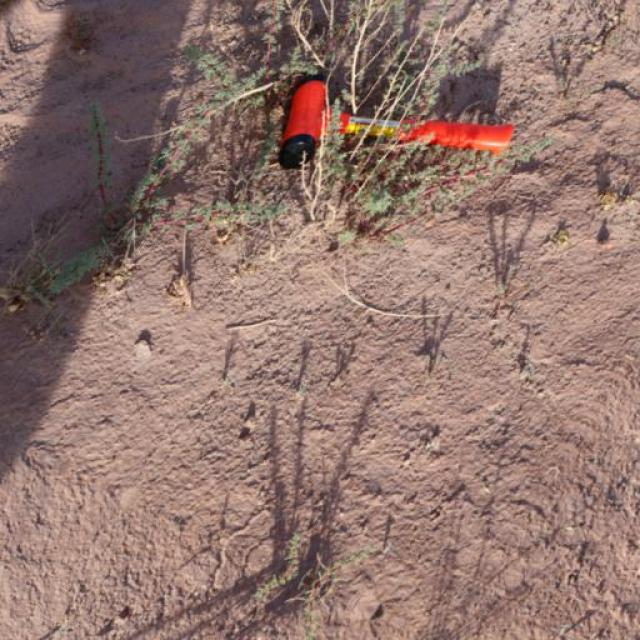mallet: (275, 74, 514, 170)
